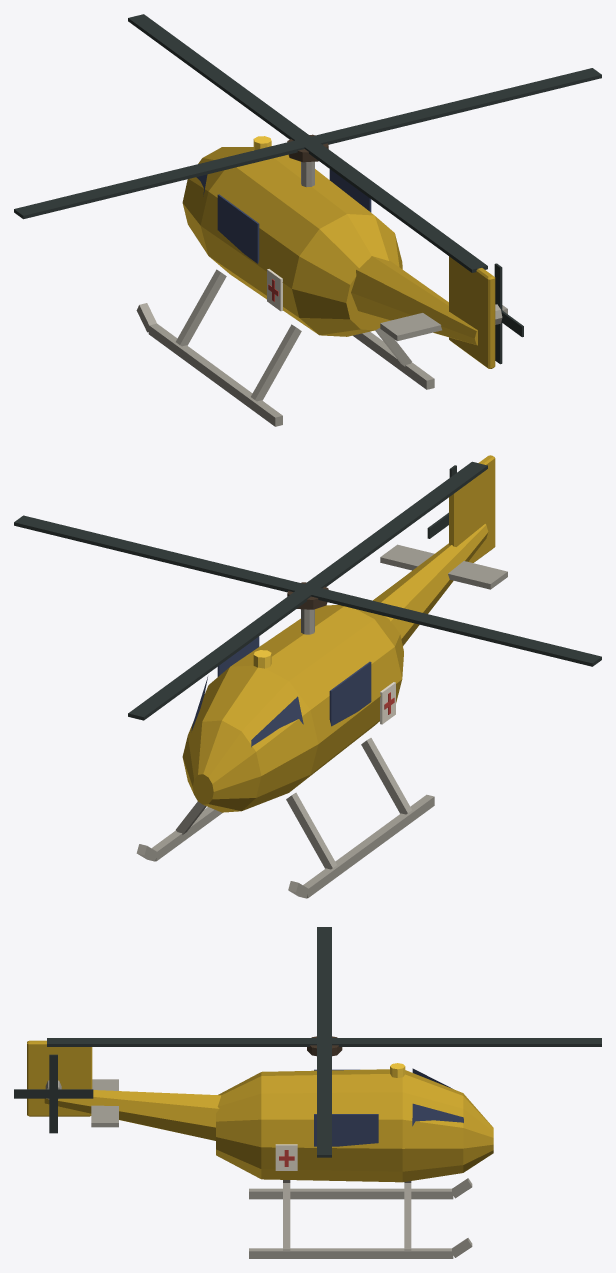
The model's file is R02_Safety_Helicopter.fbx.
3 views of the same model, one above another, from view 1: azimuth 30°, elevation 25°; view 2: azimuth 150°, elevation 25°; view 3: azimuth 270°, elevation 25° (orthographic). The views are drawn at different scales.
Visible parts, largest first — view 1: Body, Rotor_Main, Rotor_Tail; view 2: Body, Rotor_Main; view 3: Body, Rotor_Main, Rotor_Tail.
Boxes of the visible parts, x1,y1,x2,y2 form: Body: [136, 147, 507, 426]; Rotor_Main: [14, 14, 601, 272]; Rotor_Tail: [494, 263, 523, 364]; Body: [136, 455, 507, 898]; Rotor_Main: [14, 461, 601, 720]; Body: [27, 1040, 493, 1258]; Rotor_Main: [47, 927, 601, 1157]; Rotor_Tail: [14, 1054, 93, 1133].
Size of the model in its own units: 11 by 4.2 by 12.
